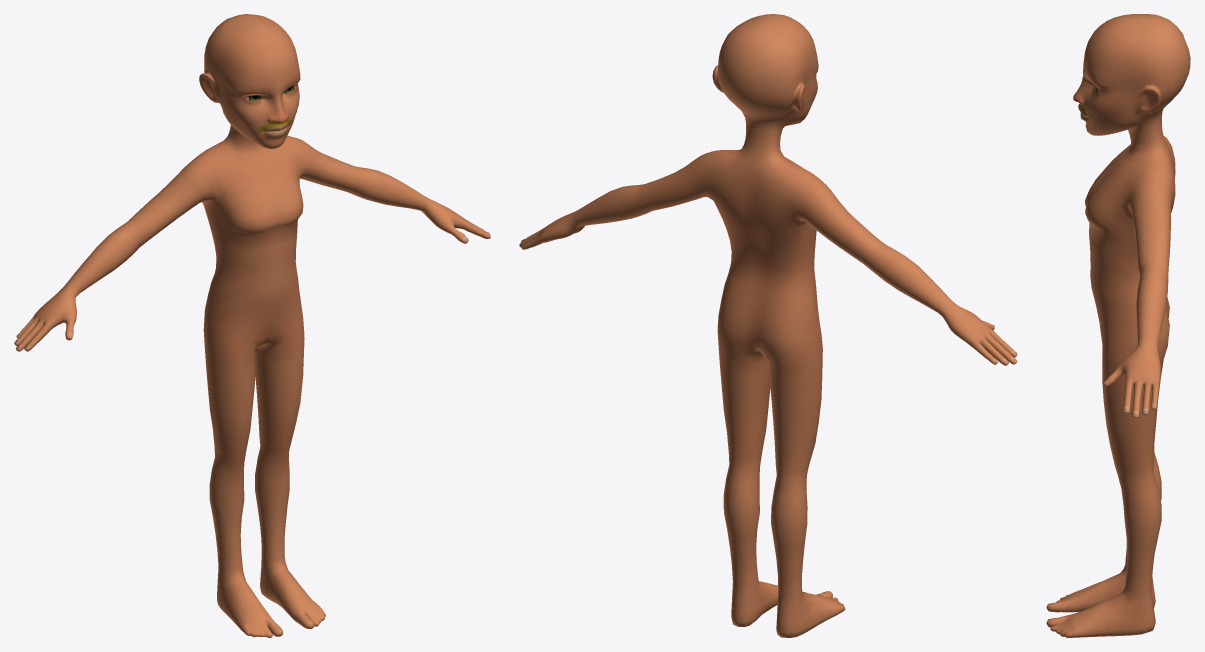
The model's file is frame_0092.glb.
3 views of the same model, side by side, from view 1: azimuth 30°, elevation 25°; view 2: azimuth 150°, elevation 25°; view 3: azimuth 270°, elevation 25° (orthographic). The views are drawn at different scales.
Visible parts, largest first — view 1: frame_0092_head_geo; view 2: frame_0092_head_geo; view 3: frame_0092_head_geo.
Part boxes in pixels (x1=…): frame_0092_head_geo: x1=14, y1=14, x2=490, y2=637; frame_0092_head_geo: x1=519, y1=14, x2=1017, y2=637; frame_0092_head_geo: x1=1046, y1=14, x2=1190, y2=637.
Size of the model in its own units: 1.28 by 1.5 by 0.3253.
3 materials, 3 textured.
